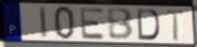0: (53, 5, 75, 41)
B: (106, 8, 135, 41)
D: (136, 8, 161, 41)
E: (79, 7, 107, 41)
I: (39, 6, 48, 39)
T: (165, 9, 186, 43)
